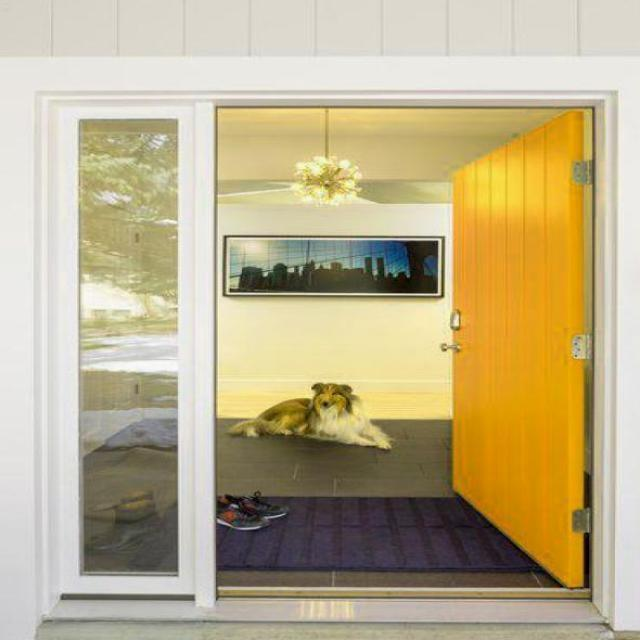door: (448, 107, 592, 589)
